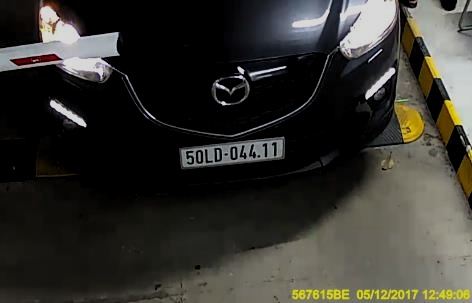plate: (178, 136, 287, 166)
